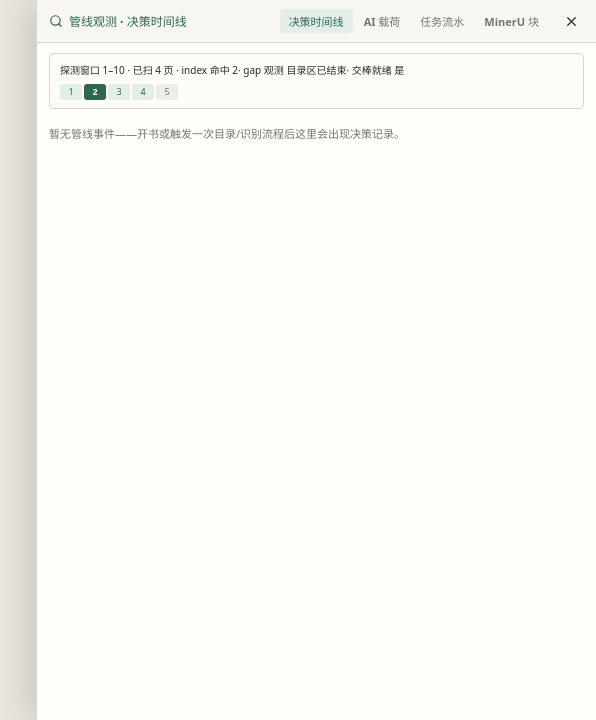
Scenario: PipelineObserverDrawer › follows the reader page while the toggle is on and pins the manual page when off
Click the tab "MinerU 块": click(512, 21) [475, 9, 548, 33]
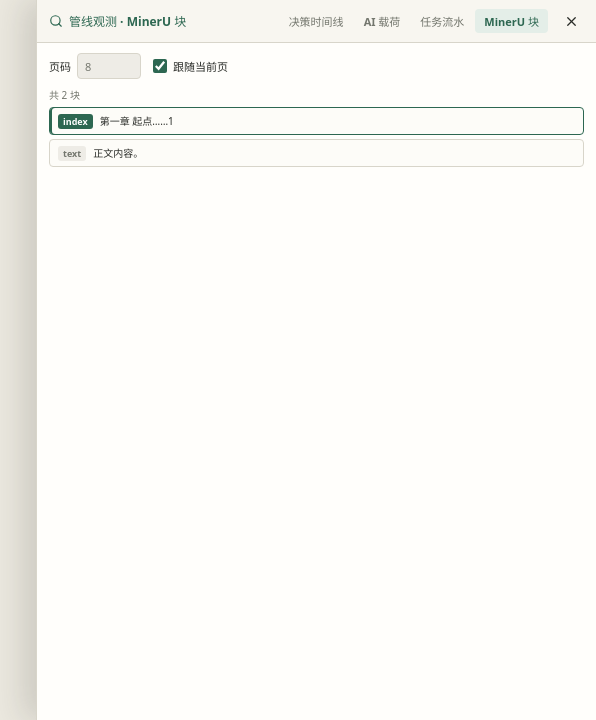
Expected: the checkbox labelled "跟随当前页" is checked
// 关闭跟随：翻页不再改页码，页码输入框解锁。
Click the checkbox labelled "跟随当前页": click(160, 66) [153, 59, 167, 73]
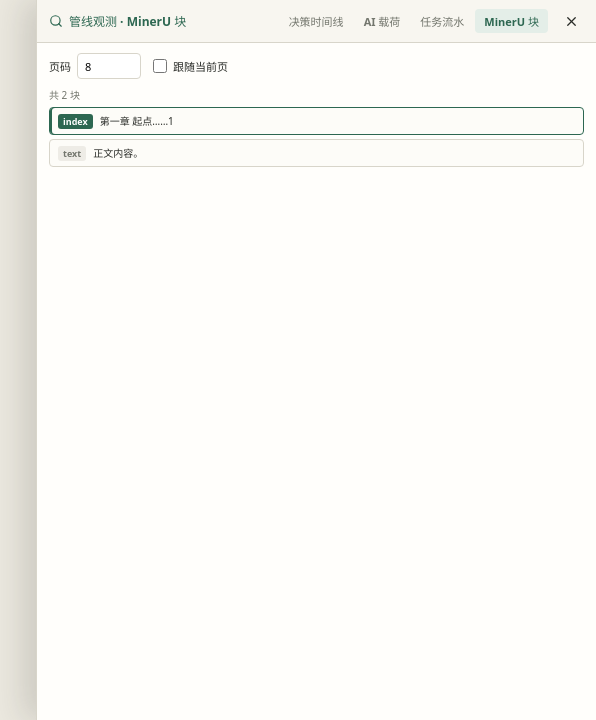
Expected: the checkbox labelled "跟随当前页" is not checked, [153, 59, 167, 73]
Expected: the number field labelled "页码" is enabled, [77, 53, 141, 79]
